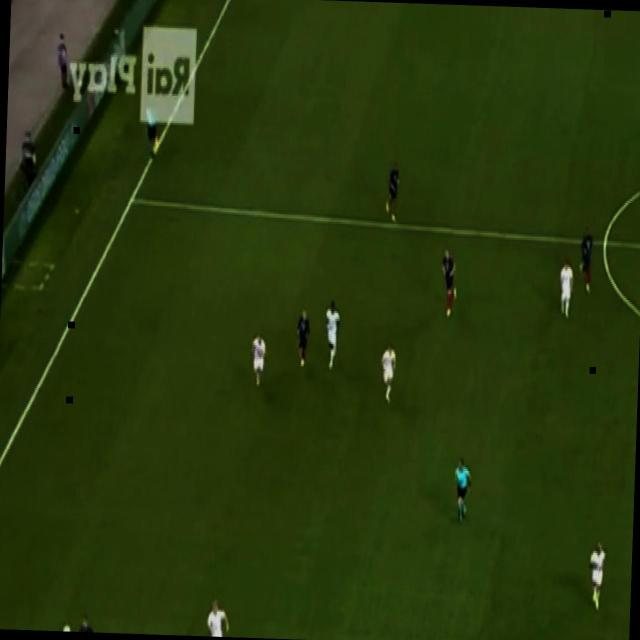ball: (63, 619, 72, 631)
player-white: (587, 537, 608, 615), (452, 456, 474, 526), (439, 244, 459, 320), (322, 298, 342, 372), (577, 224, 596, 296), (378, 340, 398, 406), (556, 256, 576, 320), (248, 331, 268, 389), (384, 160, 402, 224), (294, 307, 312, 369), (206, 595, 232, 637), (143, 95, 158, 161), (77, 610, 102, 632)
